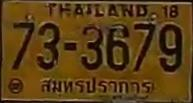3: (36, 22, 59, 69), (80, 24, 102, 69)
6: (106, 24, 128, 70)
7: (11, 21, 34, 69), (132, 22, 154, 70)
9: (159, 23, 181, 71)
SPK: (37, 74, 153, 97)
